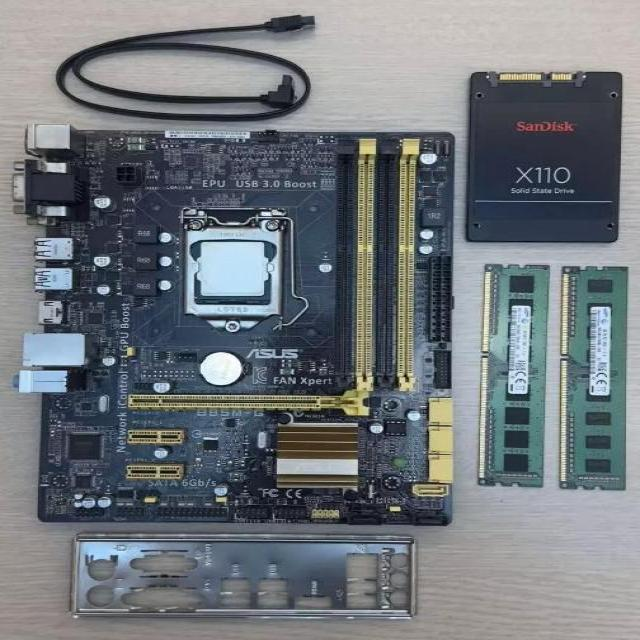CPU: (192, 240, 272, 302)
DISK: (464, 70, 623, 244)
RAM: (476, 264, 550, 490), (558, 266, 629, 492)
